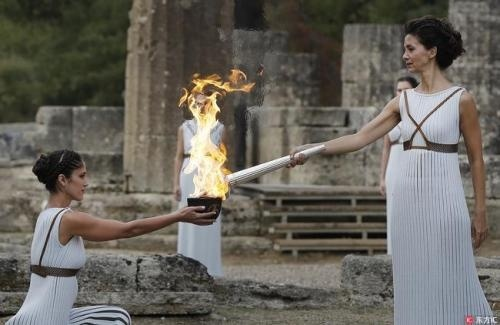fire: (176, 65, 259, 199)
